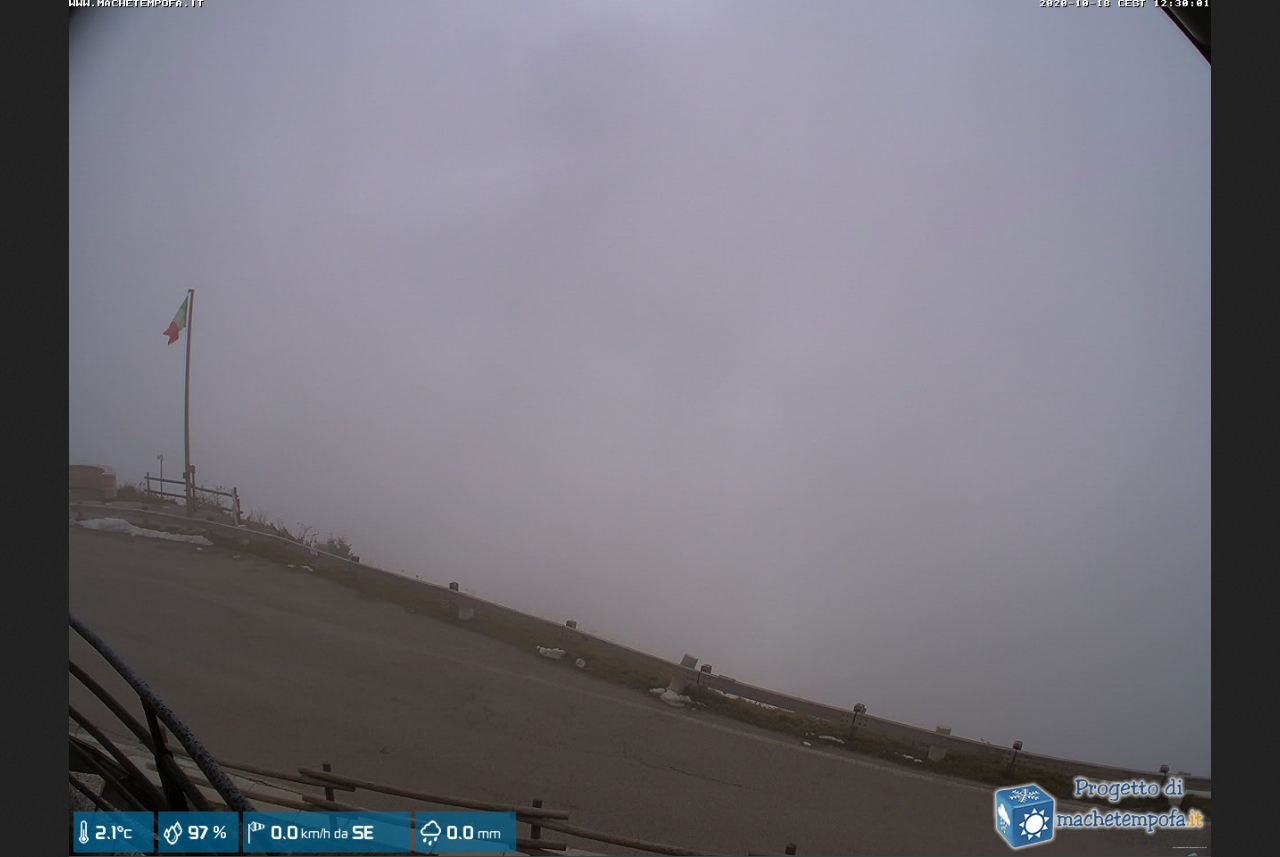no: (161, 283, 196, 345)
